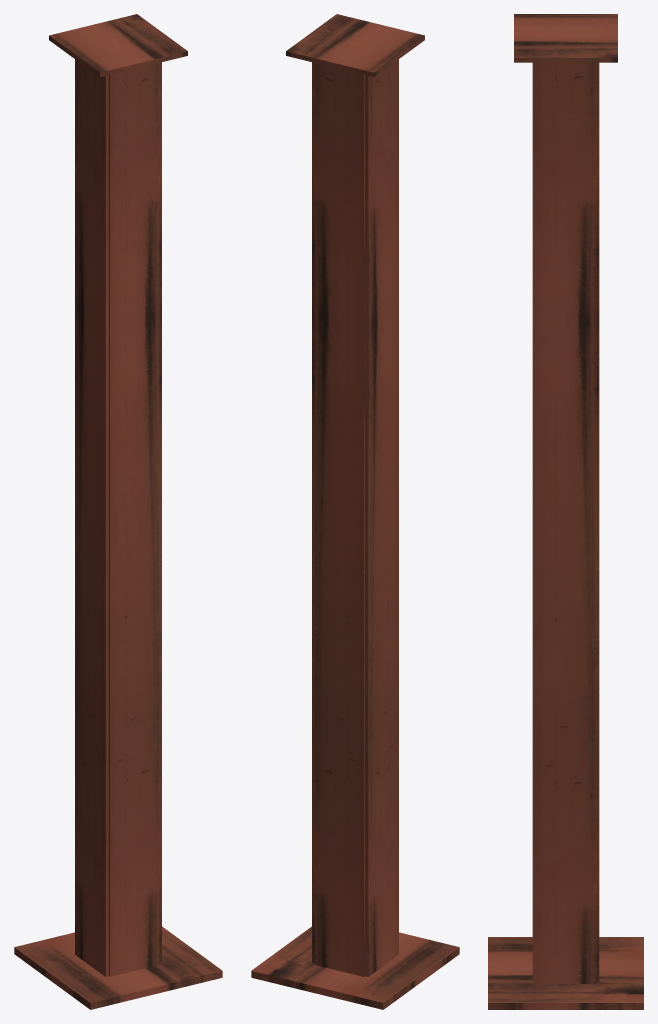
Rendered from kolon_2m.gltf.
3 renders of one model, left to right at view 1: azimuth 30°, elevation 25°; view 2: azimuth 150°, elevation 25°; view 3: azimuth 270°, elevation 25°, orthographic. The views are drawn at different scales.
Visible parts, largest first — view 1: kolon_2m; view 2: kolon_2m; view 3: kolon_2m.
Boxes of the visible parts, x1,y1,x2,y2 form: kolon_2m: (14, 14, 222, 1009); kolon_2m: (251, 14, 459, 1009); kolon_2m: (488, 14, 643, 1009).
Size of what is drawn, in the model's own units: 0.3 by 2 by 0.3.
1 material, 1 textured.
